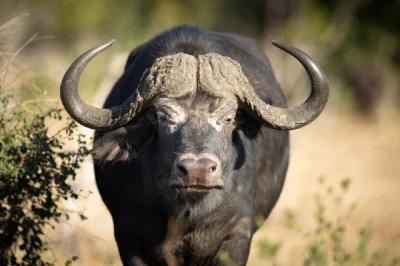buffalo: (60, 25, 328, 265)
